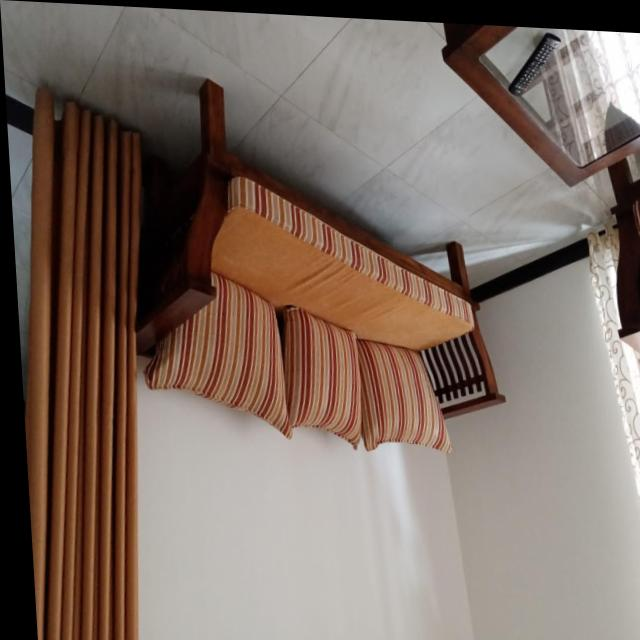Sofa: (112, 74, 505, 452)
